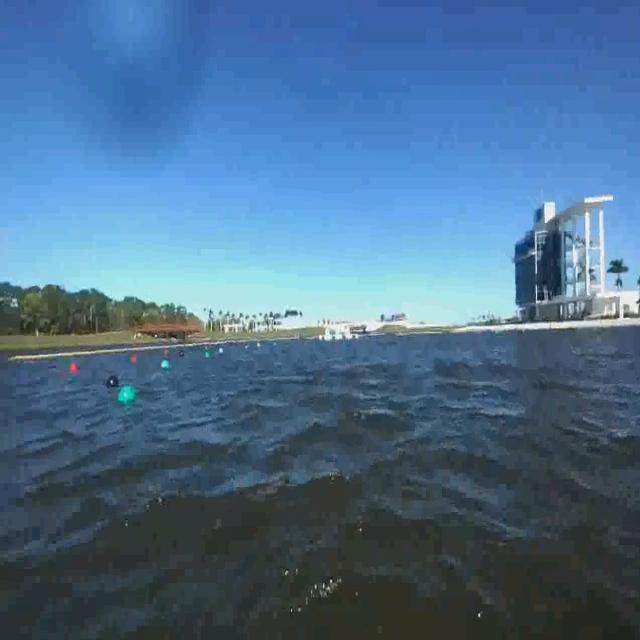black-buoy: (106, 375, 120, 389)
green-buoy: (118, 386, 134, 405), (163, 359, 170, 370)
red-buoy: (70, 360, 82, 380), (132, 349, 140, 368)
